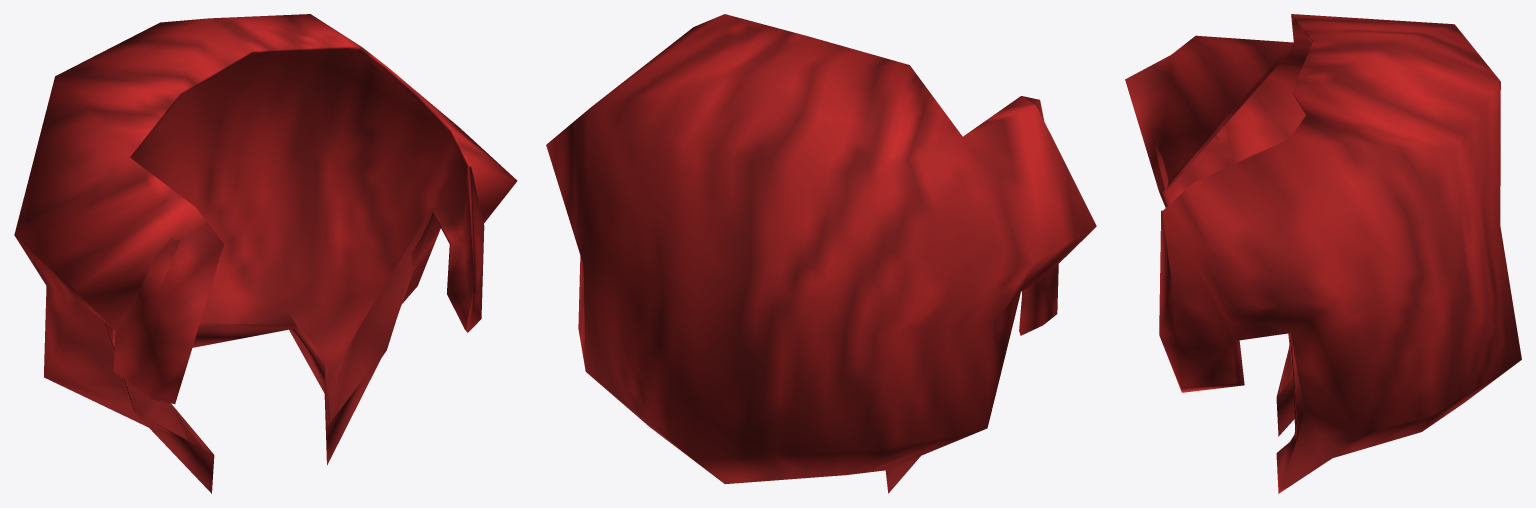
The model's file is WorldItem_BaldingWig.fbx.
3 renders of one model, left to right at view 1: azimuth 30°, elevation 25°; view 2: azimuth 150°, elevation 25°; view 3: azimuth 270°, elevation 25°, orthographic. The views are drawn at different scales.
Visible parts, largest first — view 1: Bob_Hair_Balding; view 2: Bob_Hair_Balding; view 3: Bob_Hair_Balding.
Part boxes in pixels (left/top/right/bottom): Bob_Hair_Balding: left=14, top=14, right=517, bottom=493; Bob_Hair_Balding: left=546, top=14, right=1096, bottom=493; Bob_Hair_Balding: left=1125, top=14, right=1521, bottom=493.
Bounding box in the file's own units: 0.1514 × 0.1359 × 0.1152.
